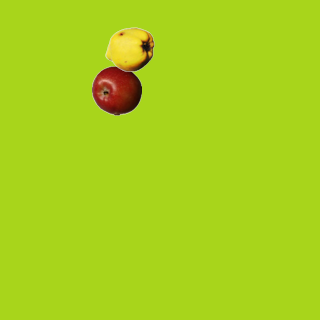Apple Braeburn: (91, 65, 141, 115)
Quince: (104, 24, 154, 74)
